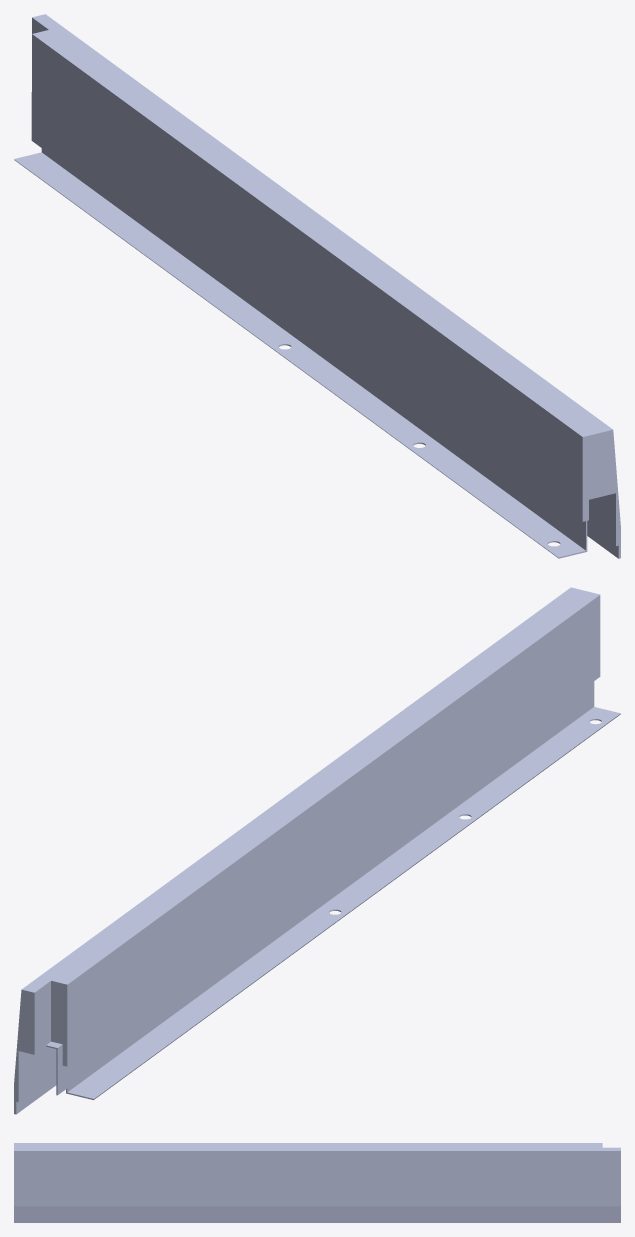
File: mv-kava-N550-m.glb
3 renders of one model, top to bottom at view 1: azimuth 30°, elevation 25°; view 2: azimuth 150°, elevation 25°; view 3: azimuth 270°, elevation 25°, orthographic. The views are drawn at different scales.
Parts seen in each view (by area): view 1: 42841407; view 2: 42841407; view 3: 42841407.
Boxes of the visible parts, box(x1,y1,x2,y2) form: 42841407: box(14, 14, 620, 558); 42841407: box(14, 587, 620, 1114); 42841407: box(14, 1143, 620, 1222).
Bounding box in the file's own units: 0.0335 × 0.0685 × 0.5402.
